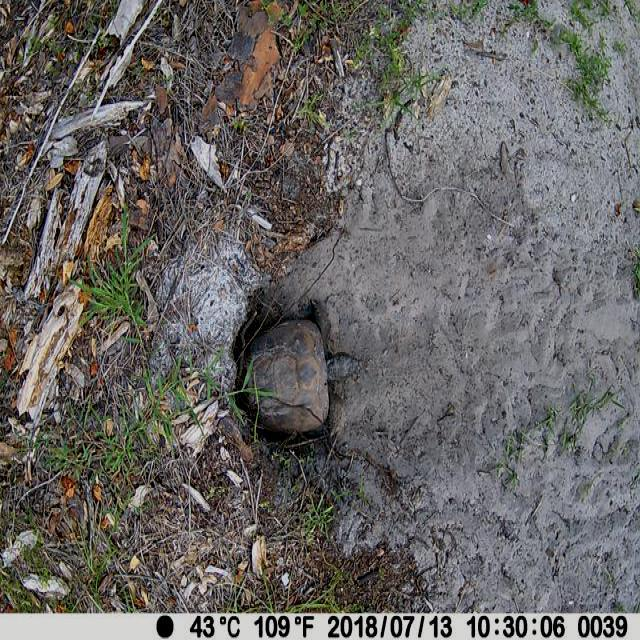tortoise: (235, 297, 357, 439)
